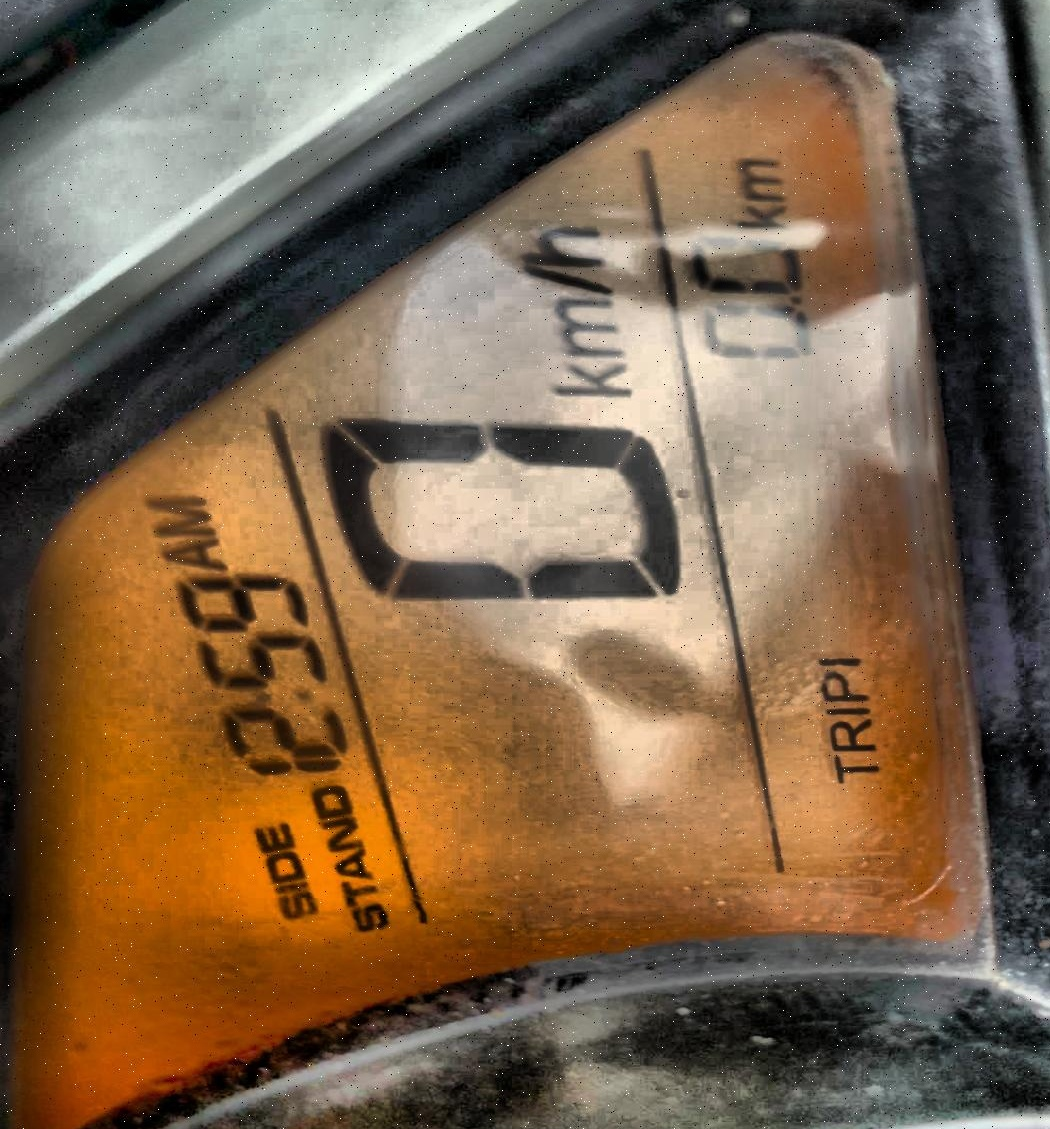-: (785, 295, 809, 306)
0: (336, 419, 685, 602), (687, 234, 807, 291), (693, 305, 813, 360)
1: (243, 756, 350, 779), (807, 651, 867, 670)
2: (220, 709, 353, 757)
5: (190, 633, 331, 686)
9: (173, 573, 313, 627)
X: (505, 221, 619, 263), (541, 359, 646, 402), (554, 296, 625, 357), (144, 489, 214, 539), (514, 263, 616, 296), (732, 156, 793, 200), (162, 535, 231, 570), (722, 201, 792, 231), (824, 718, 886, 751), (811, 675, 875, 702), (826, 755, 882, 785), (251, 819, 296, 854), (323, 818, 369, 851), (349, 901, 392, 934), (309, 786, 355, 816), (274, 892, 321, 921), (261, 852, 302, 883), (337, 849, 375, 879), (339, 879, 379, 906), (247, 687, 319, 702), (815, 704, 881, 717), (263, 879, 316, 894)
